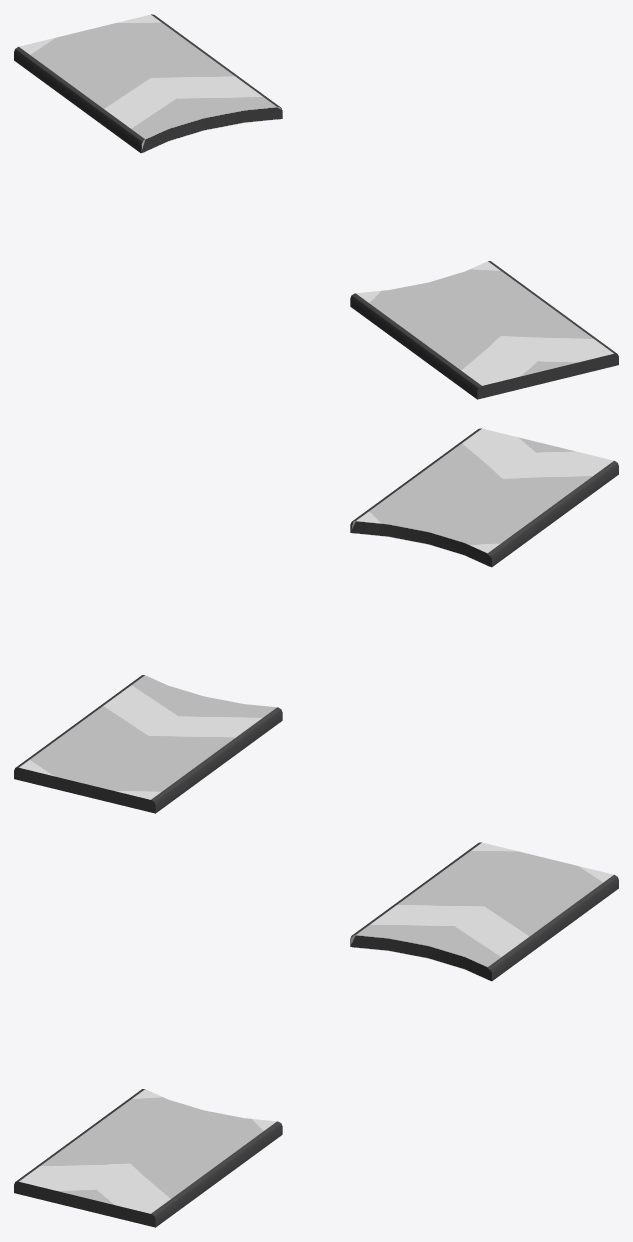
The model's file is platform.link.fbx.
3 renders of one model, top to bottom at view 1: azimuth 30°, elevation 25°; view 2: azimuth 150°, elevation 25°; view 3: azimuth 330°, elevation 25°, orthographic.
Parts seen in each view (by area): view 1: circle.link; view 2: circle.link; view 3: circle.link.
Part boxes in pixels (x1,y1,x2,y2): circle.link: (14, 14, 618, 399); circle.link: (14, 428, 618, 813); circle.link: (14, 842, 618, 1227).
Bounding box in the file's own units: 481 × 40.8 × 2726.
